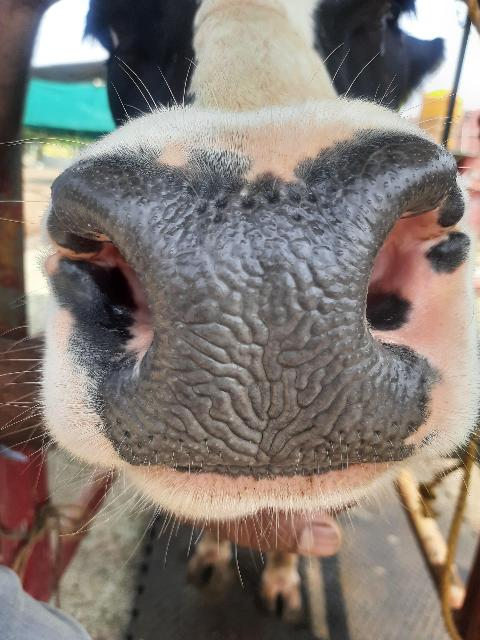Muzzle: (68, 175, 408, 455)
